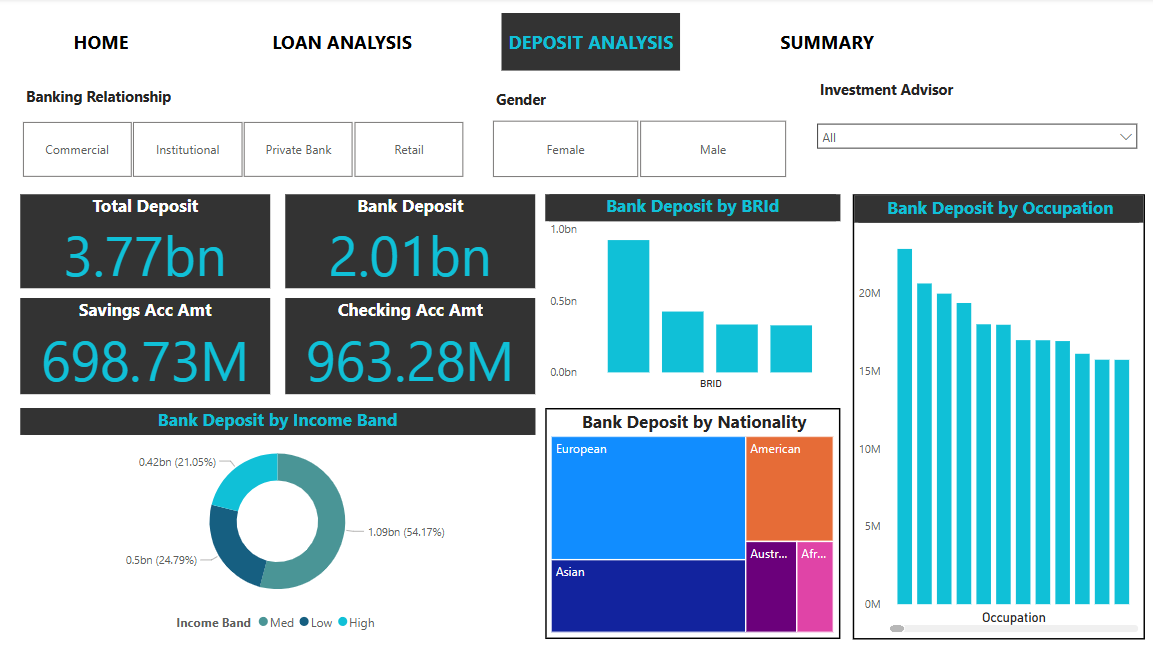

The page's visual inventory and layout, read from the dashboard file:
{"tool":"powerbi","page":{"name":"Deposit Analysis","canvas":[1280,720],"ordinal":2},"visuals":[{"type":"actionButton","title":"HOME","box":[551.6,16.5,196.2,63.1],"z":0,"group":"g2"},{"type":"card","title":"Total Deposit","fields":{"Values":["Measure Table.Total Deposit"]},"box":[23.3,215.4,274.4,102.9],"z":0},{"type":"actionButton","title":"HOME","box":[811,16.5,196.2,63.1],"z":1000,"group":"g2"},{"type":"card","title":"Bank Deposit","fields":{"Values":["Sum(Clients - Banking.Bank Deposits)"]},"box":[314.2,215.4,274.4,102.9],"z":1000},{"type":"actionButton","title":"HOME","box":[13.7,16.5,196.2,63.1],"z":2000,"group":"g2"},{"type":"card","title":"Checking Acc Amt","fields":{"Values":["Sum(Clients - Banking.Checking Accounts)"]},"box":[314.2,329.3,274.4,105.7],"z":2000},{"type":"actionButton","title":"HOME","box":[278.5,16.5,196.2,63.1],"z":3000,"group":"g2"},{"type":"card","title":"Savings Acc Amt","fields":{"Values":["Sum(Clients - Banking.Saving Accounts)"]},"box":[23.3,329.3,274.4,105.7],"z":3000},{"type":"donutChart","title":"Bank Deposit by Income Band","fields":{"Category":["Clients - Banking.Income Band"],"Y":["Sum(Clients - Banking.Bank Deposits)"]},"box":[23.3,450.1,565.4,253.9],"z":4000},{"type":"clusteredColumnChart","title":"Bank Deposit by BRId","fields":{"Category":["Banking Relationship.Banking Relationship"],"Y":["Sum(Clients - Banking.Bank Deposits)"]},"box":[599.7,215.4,323.8,219.6],"z":5000},{"type":"treemap","title":"Bank Deposit by Nationality","fields":{"Group":["Clients - Banking.Nationality"],"Values":["Sum(Clients - Banking.Bank Deposits)"]},"box":[599.7,450.1,323.8,253.9],"z":6000},{"type":"clusteredColumnChart","title":"Bank Deposit by Occupation","fields":{"Y":["Sum(Clients - Banking.Bank Deposits)"],"Category":["Clients - Banking.Occupation"]},"box":[937.2,215.4,321.1,488.5],"z":7000},{"type":"group","id":"g1","title":"Group 1","box":[0,83.7,1259.7,119.4],"z":8000},{"type":"group","id":"g2","title":"Group 2","box":[13.7,16.5,993.5,63.1],"z":9000},{"type":"slicer","fields":{"Values":["Banking Relationship.Banking Relationship"]},"box":[0,128.7,533.8,74.1],"z":12000,"group":"g1"},{"type":"slicer","fields":{"Values":["Gender.Gender"]},"box":[515.7,127.6,371.9,75.5],"z":13000,"group":"g1"},{"type":"slicer","fields":{"Values":["Investment Advisor.Investment Advisor"]},"box":[887.5,127.6,371.9,75.5],"z":14000,"group":"g1"},{"type":"textbox","box":[24.8,91.7,491.3,35.7],"z":16000,"group":"g1"},{"type":"textbox","box":[540.4,94.7,322.5,32.9],"z":17000,"group":"g1"},{"type":"textbox","box":[887.5,83.7,362.3,43.9],"z":18000,"group":"g1"}]}

Visuals, with their boxes in screenshot pixels (x1, y1, x2, y2), scaled from the page's 1280x720 canvas onto the 1153x646 screenshot:
"HOME" actionButton: x1=497 y1=15 x2=674 y2=71
"Total Deposit" card: x1=21 y1=193 x2=268 y2=286
"HOME" actionButton: x1=731 y1=15 x2=907 y2=71
"Bank Deposit" card: x1=283 y1=193 x2=530 y2=286
"HOME" actionButton: x1=12 y1=15 x2=189 y2=71
"Checking Acc Amt" card: x1=283 y1=295 x2=530 y2=390
"HOME" actionButton: x1=251 y1=15 x2=428 y2=71
"Savings Acc Amt" card: x1=21 y1=295 x2=268 y2=390
"Bank Deposit by Income Band" donutChart: x1=21 y1=404 x2=530 y2=632
"Bank Deposit by BRId" clusteredColumnChart: x1=540 y1=193 x2=832 y2=390
"Bank Deposit by Nationality" treemap: x1=540 y1=404 x2=832 y2=632
"Bank Deposit by Occupation" clusteredColumnChart: x1=844 y1=193 x2=1133 y2=632
"Group 1" group: x1=0 y1=75 x2=1135 y2=182
"Group 2" group: x1=12 y1=15 x2=907 y2=71
slicer - Banking Relationship.Banking Relationship: x1=0 y1=115 x2=481 y2=182
slicer - Gender.Gender: x1=465 y1=114 x2=800 y2=182
slicer - Investment Advisor.Investment Advisor: x1=799 y1=114 x2=1134 y2=182
textbox: x1=22 y1=82 x2=465 y2=114
textbox: x1=487 y1=85 x2=777 y2=114
textbox: x1=799 y1=75 x2=1126 y2=114
